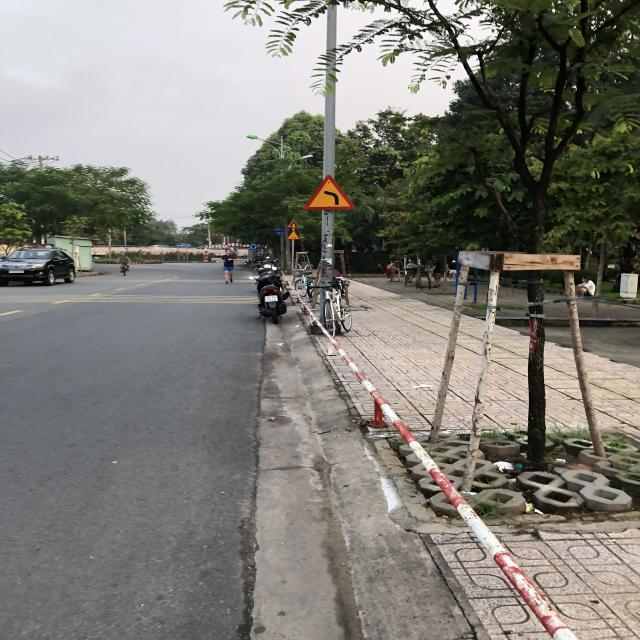Bien bao cho ngoat nguy hiem: (299, 170, 372, 217)
